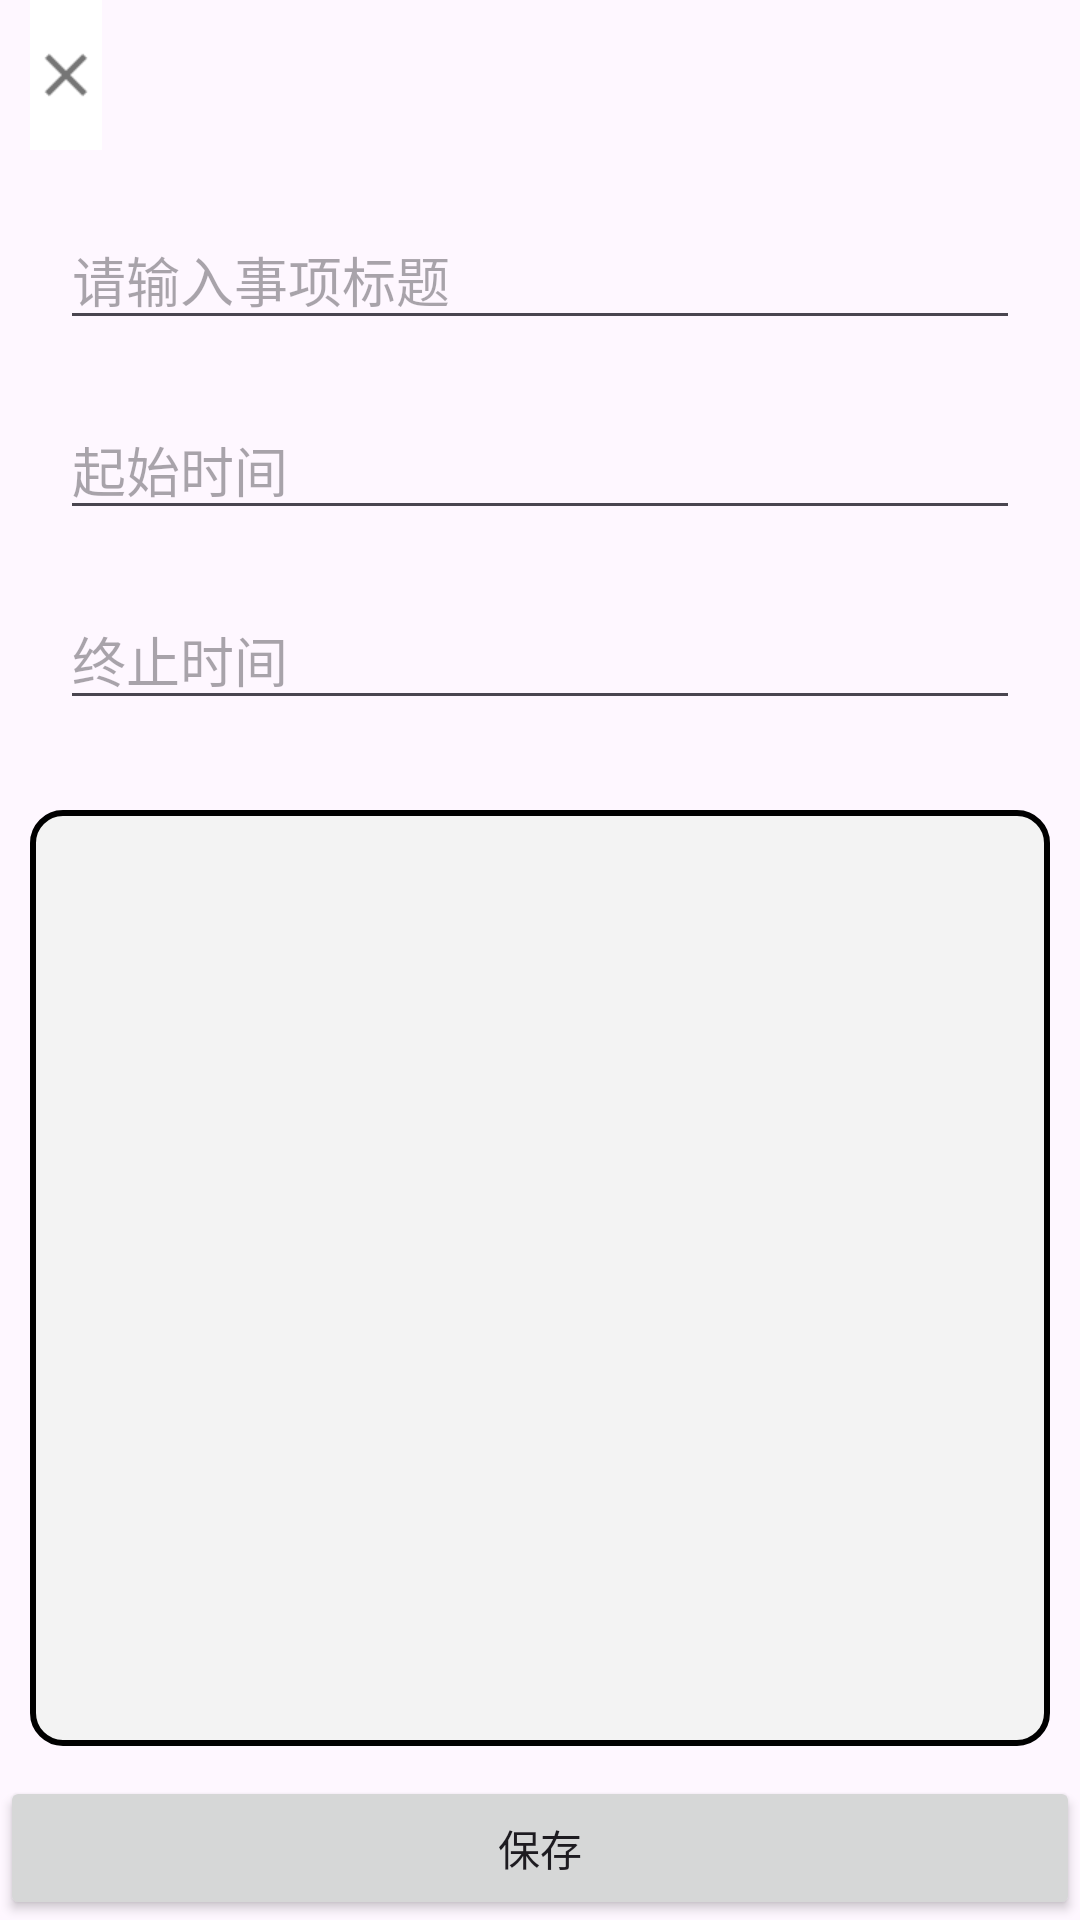

Screen size 1080x1920. Icon name, then its box in pixels as (x1, y1, x2, y2):
close: (45, 54, 87, 96)
